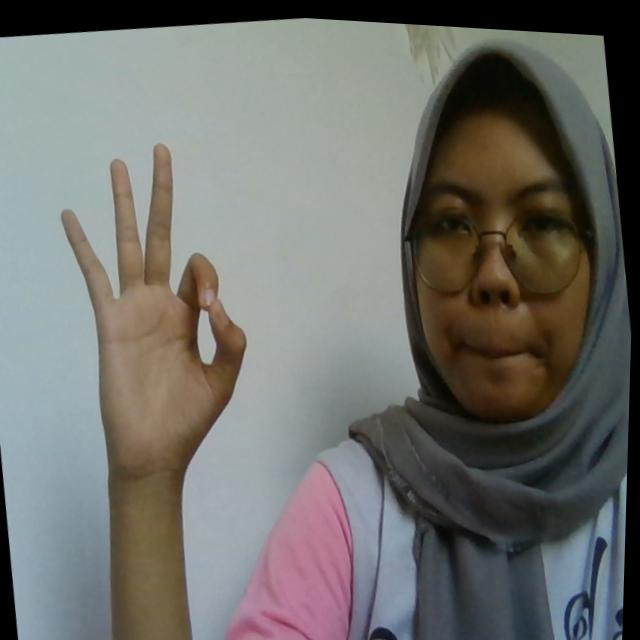F: (49, 125, 270, 482)
